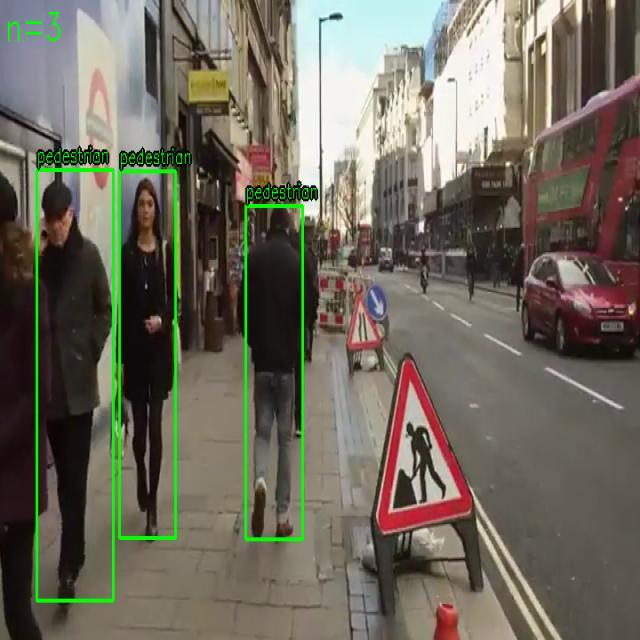with scooter: (36, 169, 114, 602), (119, 171, 176, 538), (245, 205, 303, 540)
